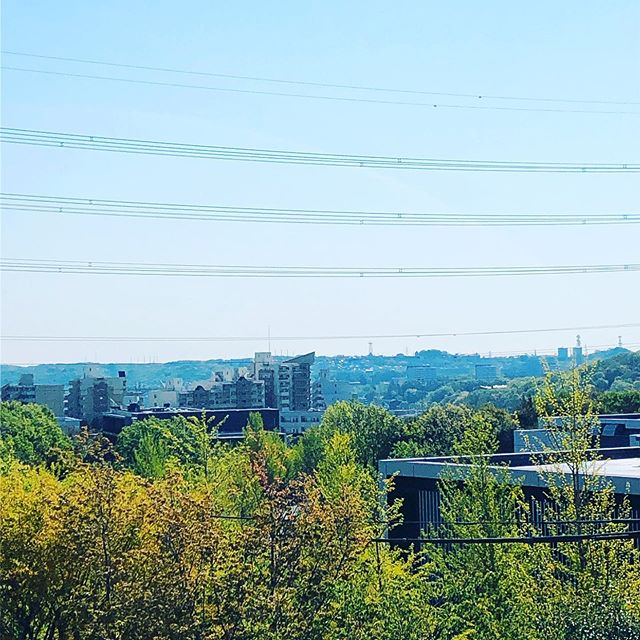building: (387, 439, 640, 640), (171, 344, 324, 417), (63, 371, 135, 420)
sky: (1, 1, 640, 347)
vegetation: (1, 410, 395, 640)
